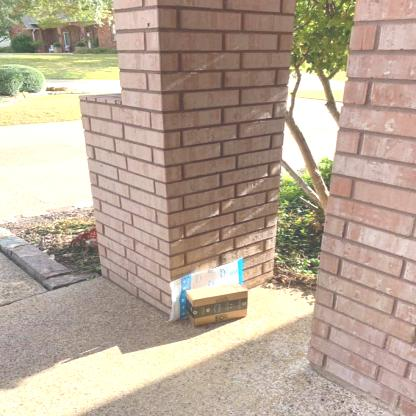box: (184, 284, 249, 323)
plastic_bag: (165, 257, 243, 326)
